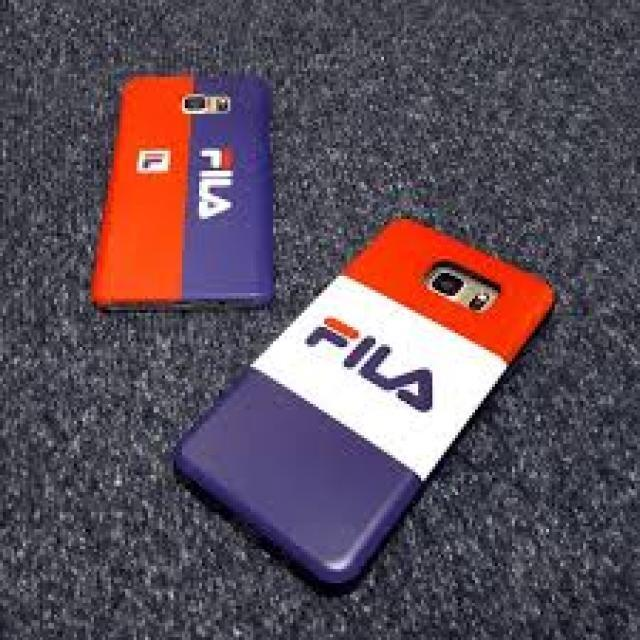Phone: (174, 215, 568, 592), (89, 72, 272, 308)
